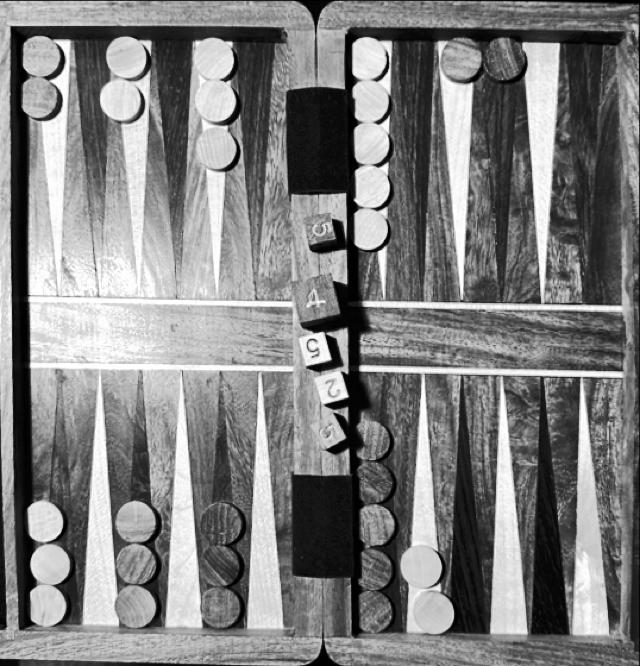bar: (290, 34, 349, 635)
board: (11, 26, 635, 649)
dark_p: (482, 34, 533, 85), (438, 33, 488, 84), (195, 585, 248, 631), (198, 500, 247, 549), (15, 75, 65, 123), (112, 585, 163, 631), (347, 416, 395, 463), (349, 461, 398, 507), (195, 543, 245, 588), (349, 546, 396, 593), (350, 505, 399, 549), (115, 497, 159, 545), (349, 591, 397, 635), (18, 34, 65, 78), (115, 544, 162, 587)
dice: (291, 273, 346, 330), (295, 328, 337, 372), (307, 412, 348, 455), (311, 368, 353, 409), (303, 211, 341, 253)
light_p: (397, 540, 448, 588), (194, 126, 243, 175), (98, 77, 148, 125), (193, 78, 243, 126), (345, 205, 393, 255), (410, 587, 458, 636), (191, 34, 241, 81), (104, 33, 152, 81), (345, 33, 392, 82), (346, 120, 395, 167), (345, 78, 395, 124), (24, 584, 74, 630), (348, 165, 395, 212), (28, 543, 78, 585), (23, 499, 70, 542)
